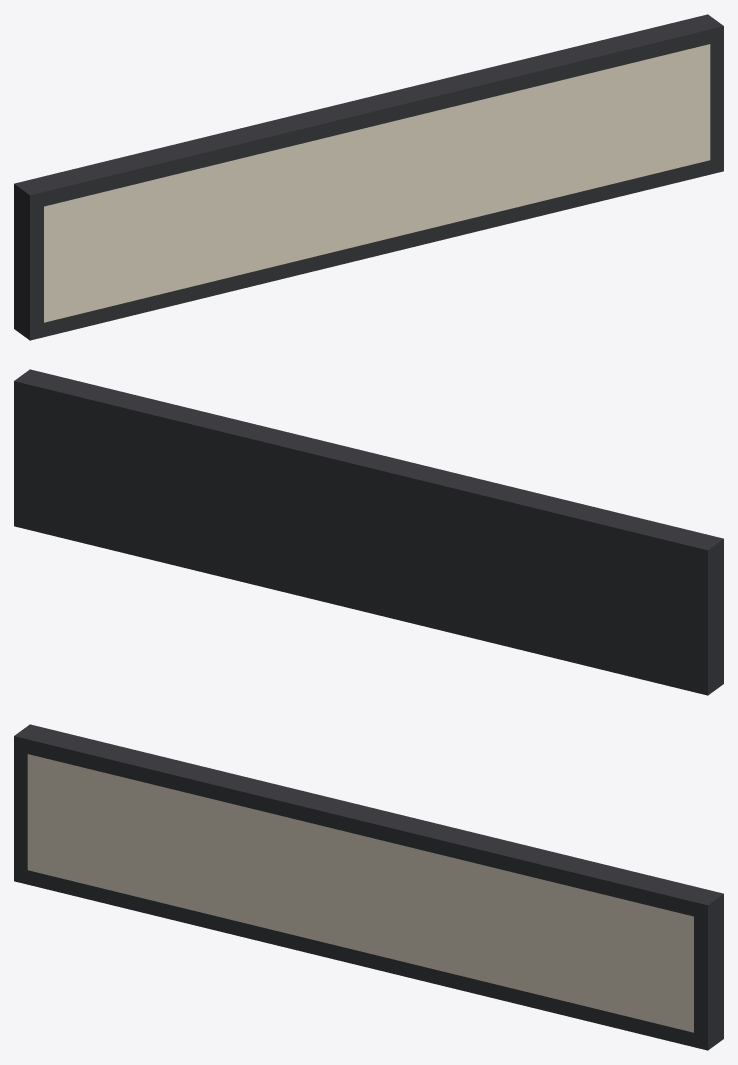
The model's file is sign_shop_blank.glb.
The picture shows the model from 3 angles, top to bottom: view 1: azimuth 30°, elevation 25°; view 2: azimuth 150°, elevation 25°; view 3: azimuth 330°, elevation 25°; orthographic projection.
Visible parts, largest first — view 1: sign.shop.blank; view 2: sign.shop.blank; view 3: sign.shop.blank.
Boxes of the visible parts, box(x1,y1,x2,y2) form: sign.shop.blank: box(14, 14, 723, 340); sign.shop.blank: box(14, 369, 723, 695); sign.shop.blank: box(14, 724, 723, 1050).
Size of the model in its own units: 3 by 0.6 by 0.1205.
